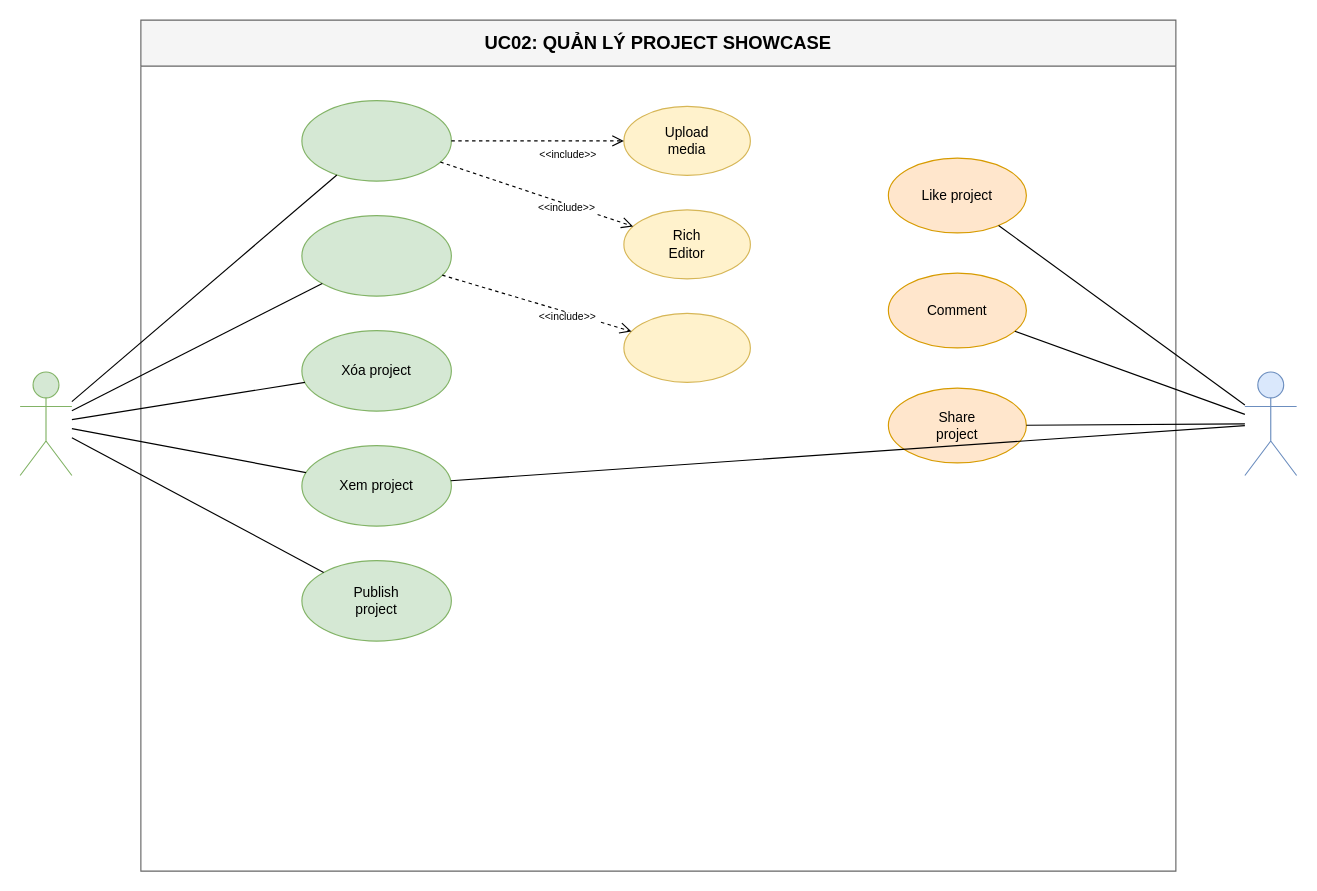
The diagram is 1317 pixels wide and 891 high, and some of its shapes have lost their labels. Each missing label, with the box of its shape:
Check ownership: (623, 312, 750, 382)
Creator: (19, 371, 72, 476)
Cập nhật project: (301, 214, 451, 296)
Tạo project: (301, 99, 451, 181)
Viewer: (1244, 371, 1297, 476)
